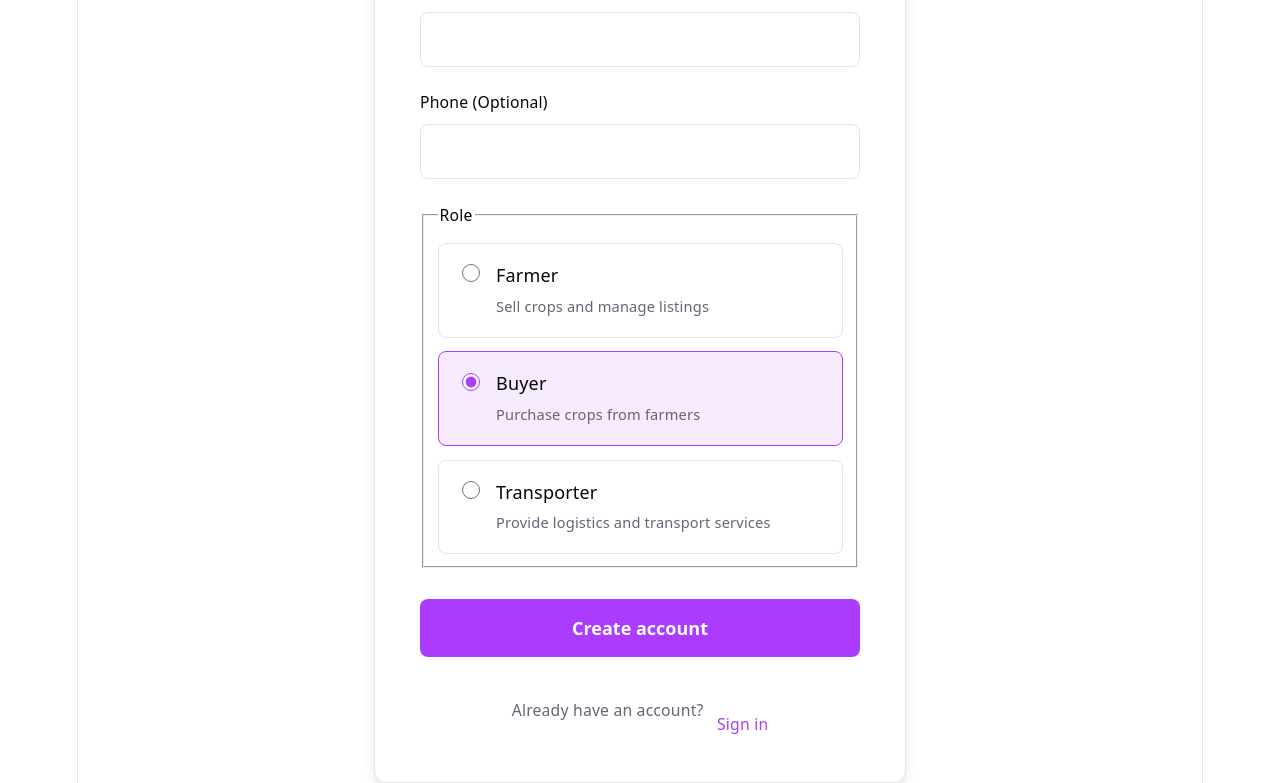
Test case: RegisterPage › rejects missing required fields
(page scrolled)
Step 1. Click the button "Create account" → (640, 628), box [420, 599, 860, 657]
(page scrolled)
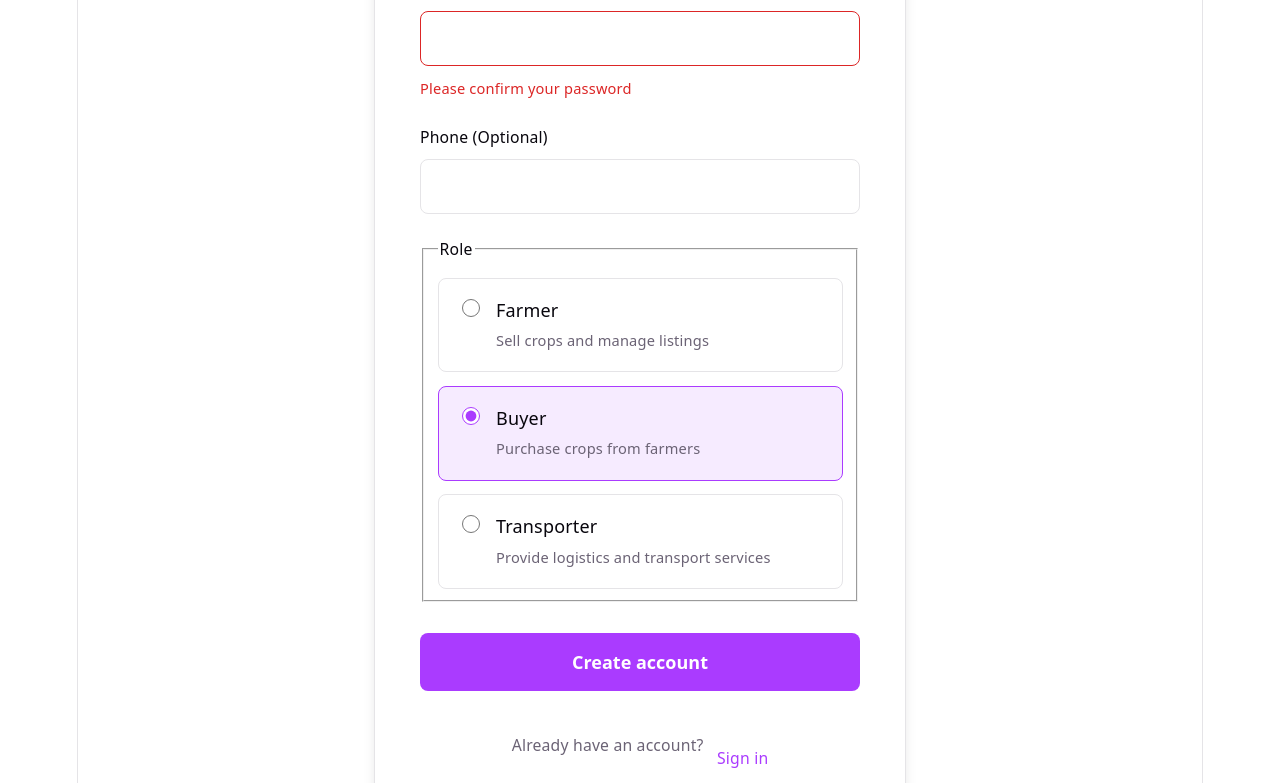
Check: the text "Please confirm your password" is shown, box [420, 78, 632, 98]
